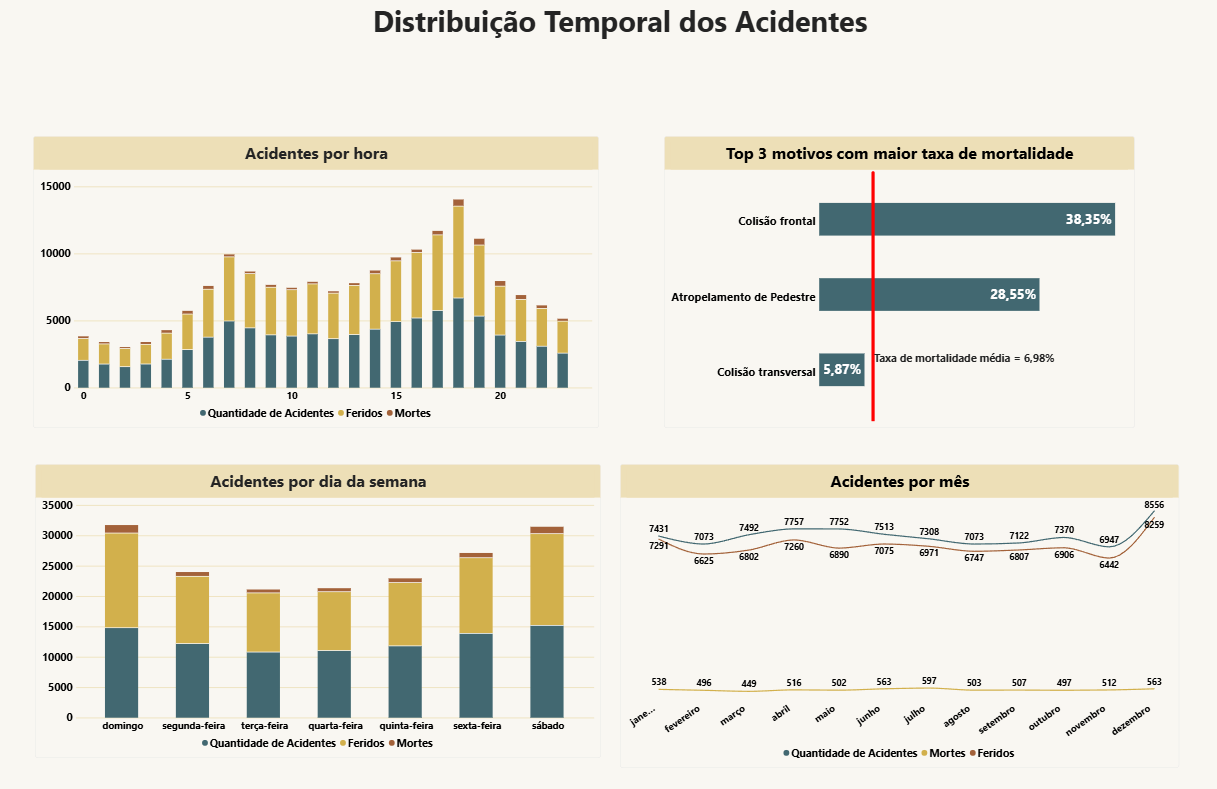

This screenshot's page, from the dashboard's own definition file:
{"tool":"powerbi","page":{"name":"Página 2","canvas":[3100,2000],"ordinal":1},"visuals":[{"type":"columnChart","title":"Acidentes, feridos e mortes por dia da semana","fields":{"Category":["datatran2017.dia_semana"],"Y":["Medidas.Quantidade de Acidentes","Medidas.Feridos","Medidas.Mortes"]},"box":[86.7,1160,1415,735],"z":0},{"type":"lineChart","title":"Acidentes, mortes e feridos por mês","fields":{"Y":["Medidas.Quantidade de Acidentes","Medidas.Mortes","Medidas.Feridos"],"Category":["datatran2017.data_inversa.Variation.Hierarquia de datas.Ano","datatran2017.data_inversa.Variation.Hierarquia de datas.Trimestre","datatran2017.data_inversa.Variation.Hierarquia de datas.Mês","datatran2017.data_inversa.Variation.Hierarquia de datas.Dia"]},"box":[1550,1160,1397.5,760],"z":1000},{"type":"columnChart","title":"Acidentes, feridos e mortes por hora","fields":{"Category":["datatran2017.Hora"],"Y":["Medidas.Quantidade de Acidentes","Medidas.Feridos","Medidas.Mortes"]},"box":[83.3,340,1415,730],"z":2000},{"type":"textbox","box":[0,2.5,3100,105],"z":3000},{"type":"barChart","title":"Top 3 Acidentes com maior taxa de mortalidade","fields":{"Y":["Medidas.Taxa de Mortalidade"],"Category":["datatran2017.tipo_acidente"]},"box":[1660,340,1176.7,730],"z":4000},{"type":"textbox","box":[2185,860,702.5,65],"z":5000}]}

Visuals, with their boxes in screenshot pixels (x1, y1, x2, y2), scaled from the page's 3100x2000 canvas onto the 1217x789 screenshot:
"Acidentes, feridos e mortes por dia da semana" columnChart: <region>34, 458, 590, 748</region>
"Acidentes, mortes e feridos por mês" lineChart: <region>608, 458, 1157, 757</region>
"Acidentes, feridos e mortes por hora" columnChart: <region>33, 134, 588, 422</region>
textbox: <region>0, 1, 1216, 42</region>
"Top 3 Acidentes com maior taxa de mortalidade" barChart: <region>652, 134, 1114, 422</region>
textbox: <region>858, 339, 1134, 365</region>
